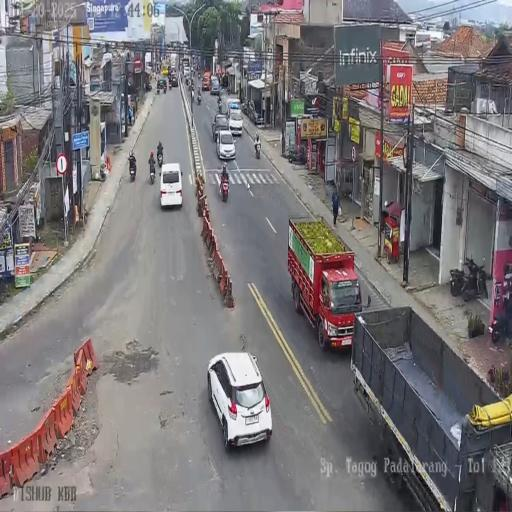3: (286, 215, 356, 349), (144, 51, 152, 75), (170, 53, 177, 73)
car: (207, 350, 274, 451), (159, 161, 183, 209), (215, 129, 236, 161), (224, 96, 241, 120), (210, 76, 220, 95), (202, 72, 211, 91), (183, 67, 191, 82), (162, 64, 168, 76)
truck: (450, 256, 488, 302), (491, 264, 512, 339), (286, 144, 306, 165), (220, 174, 230, 202), (148, 162, 156, 184), (129, 160, 136, 181), (254, 139, 260, 159), (157, 148, 163, 168), (242, 100, 248, 117), (217, 95, 222, 111), (196, 92, 202, 105), (190, 83, 194, 97), (163, 81, 167, 94), (168, 78, 172, 89), (197, 71, 201, 81), (157, 82, 160, 94)
